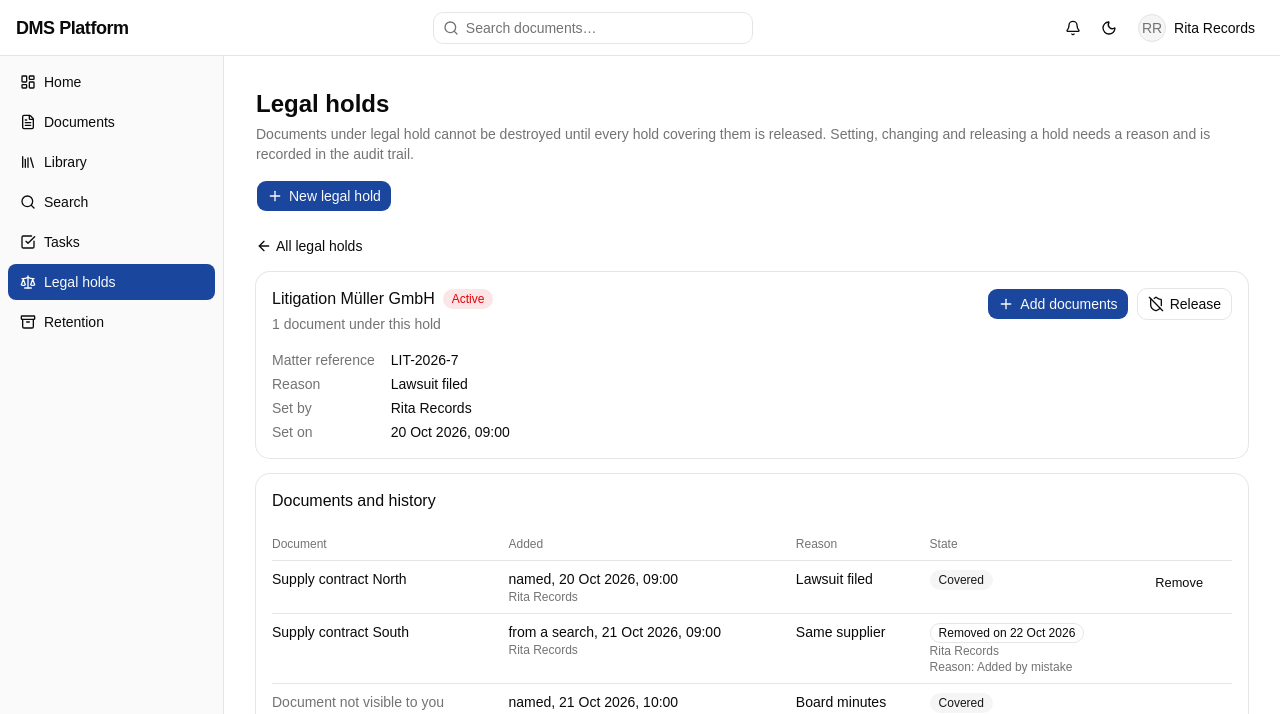
Scenario: legal holds page › removes a document with a reason
Click the button with aria-label "Remove Supply contract North from the hold" at (1179, 583), box [1144, 569, 1214, 597]
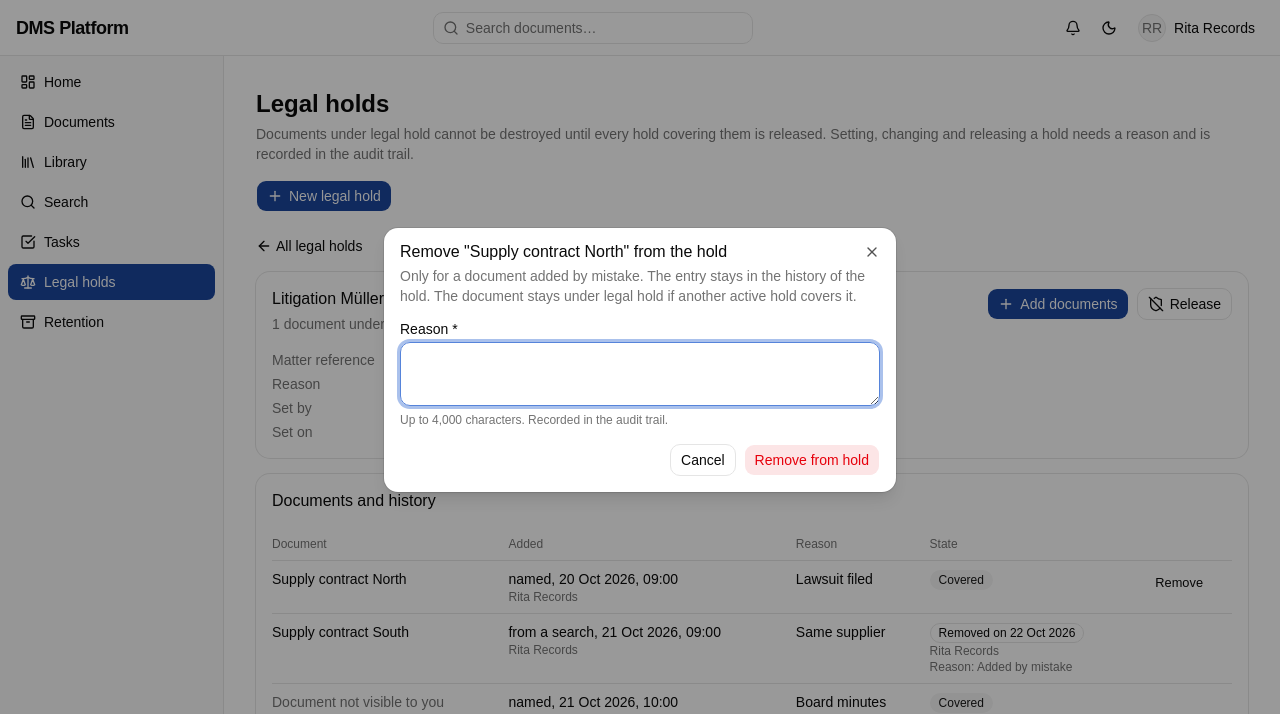
Click the button "Remove from hold" at (812, 460), box [744, 444, 880, 476]
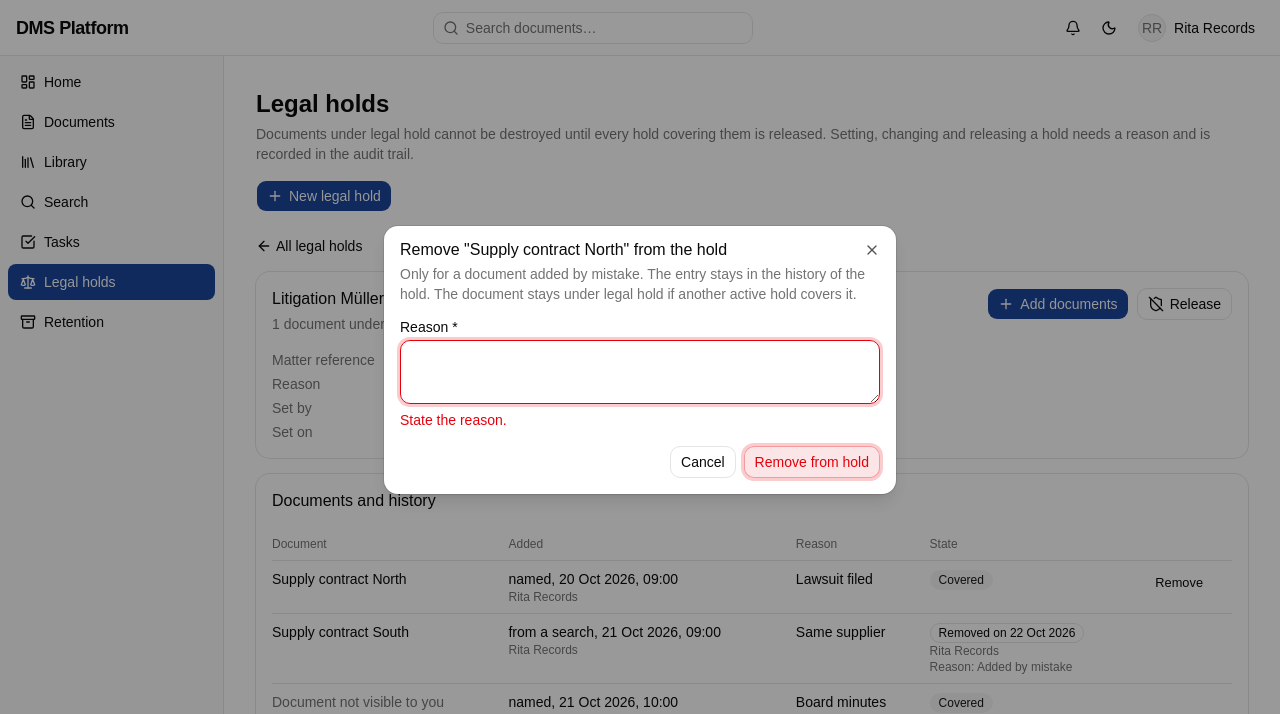
Expected: the text "State the reason." is shown, [400, 412, 507, 428]
Type "Wrong supplier" into the text box labelled "Reason *" at (640, 372), box [400, 340, 880, 404]
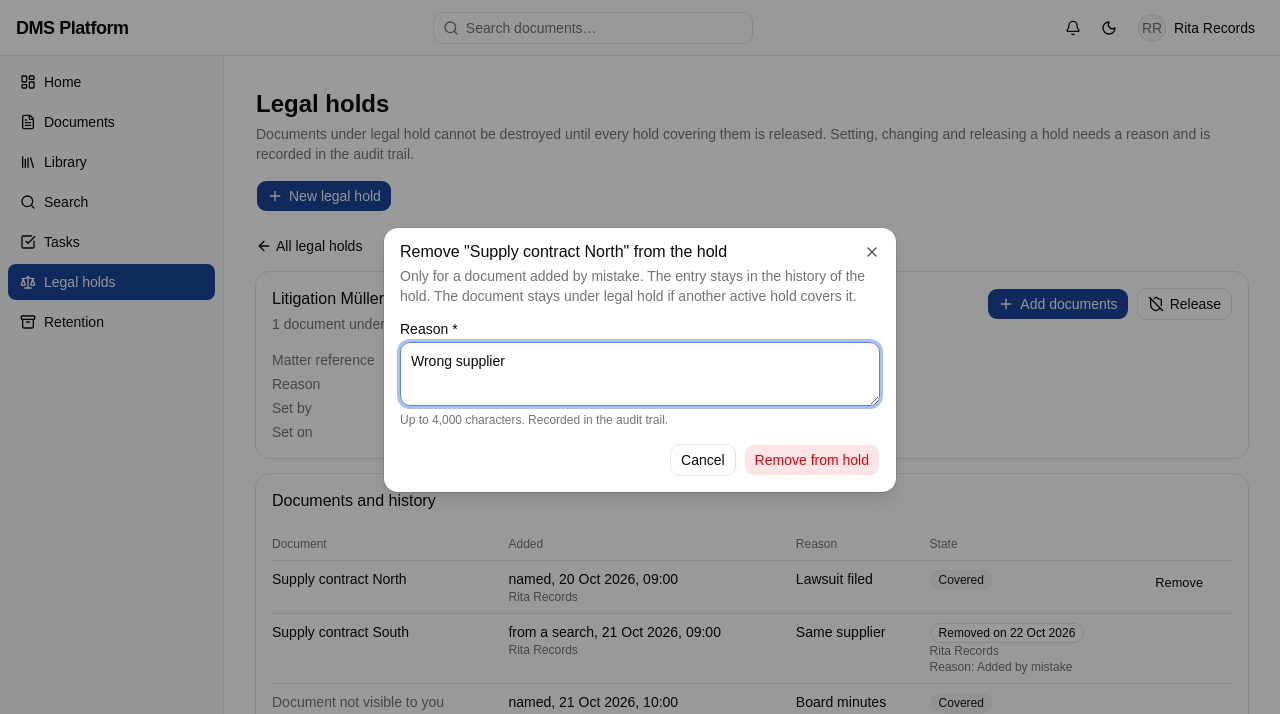
Click the button "Remove from hold" at (812, 460), box [744, 444, 880, 476]
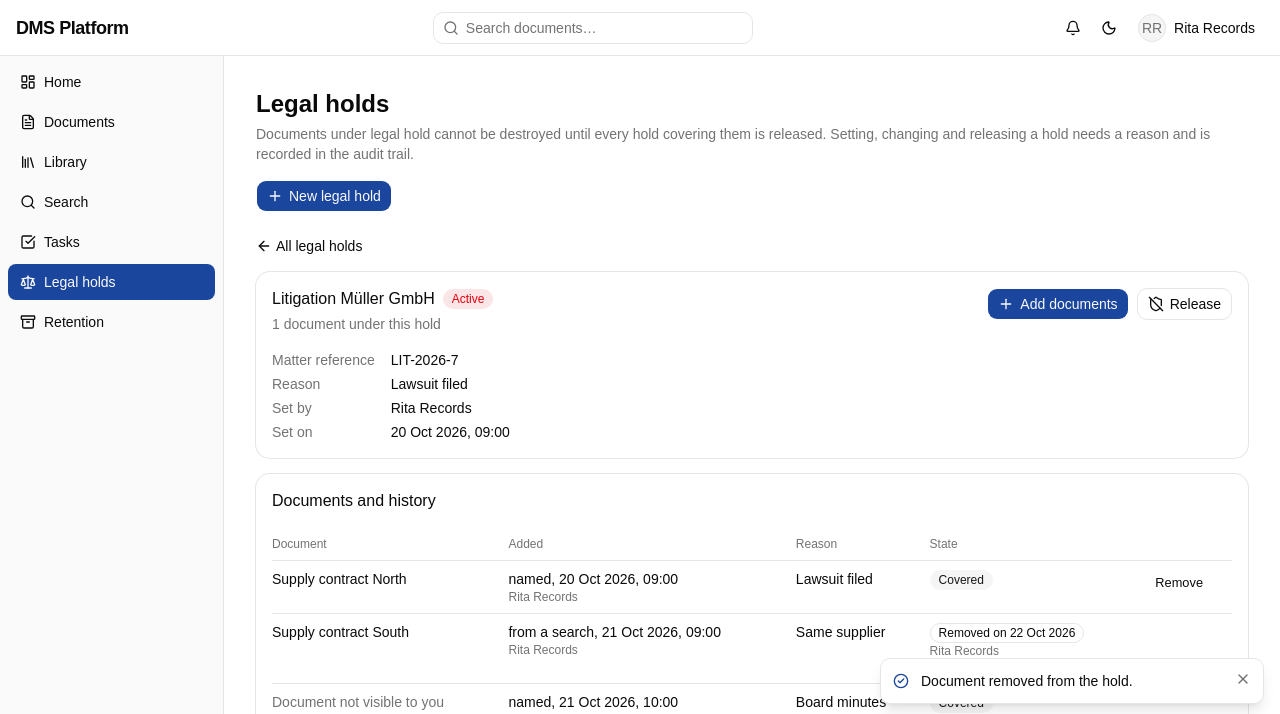
Expected: the text "Document removed from the hold." is shown, [921, 673, 1133, 689]
